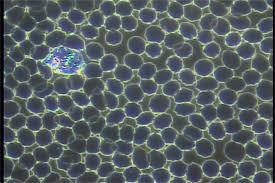Malaria: (149, 93, 172, 114), (124, 82, 145, 104), (198, 104, 220, 124), (222, 50, 242, 71), (44, 30, 66, 49), (164, 30, 184, 50), (145, 131, 165, 151), (178, 68, 197, 87), (242, 27, 264, 43), (6, 140, 24, 159), (42, 112, 60, 130), (5, 9, 25, 25), (101, 53, 117, 72), (238, 162, 257, 178), (200, 13, 218, 29), (107, 109, 125, 125), (139, 62, 155, 79), (121, 16, 137, 32), (16, 83, 32, 99), (100, 139, 115, 155)
